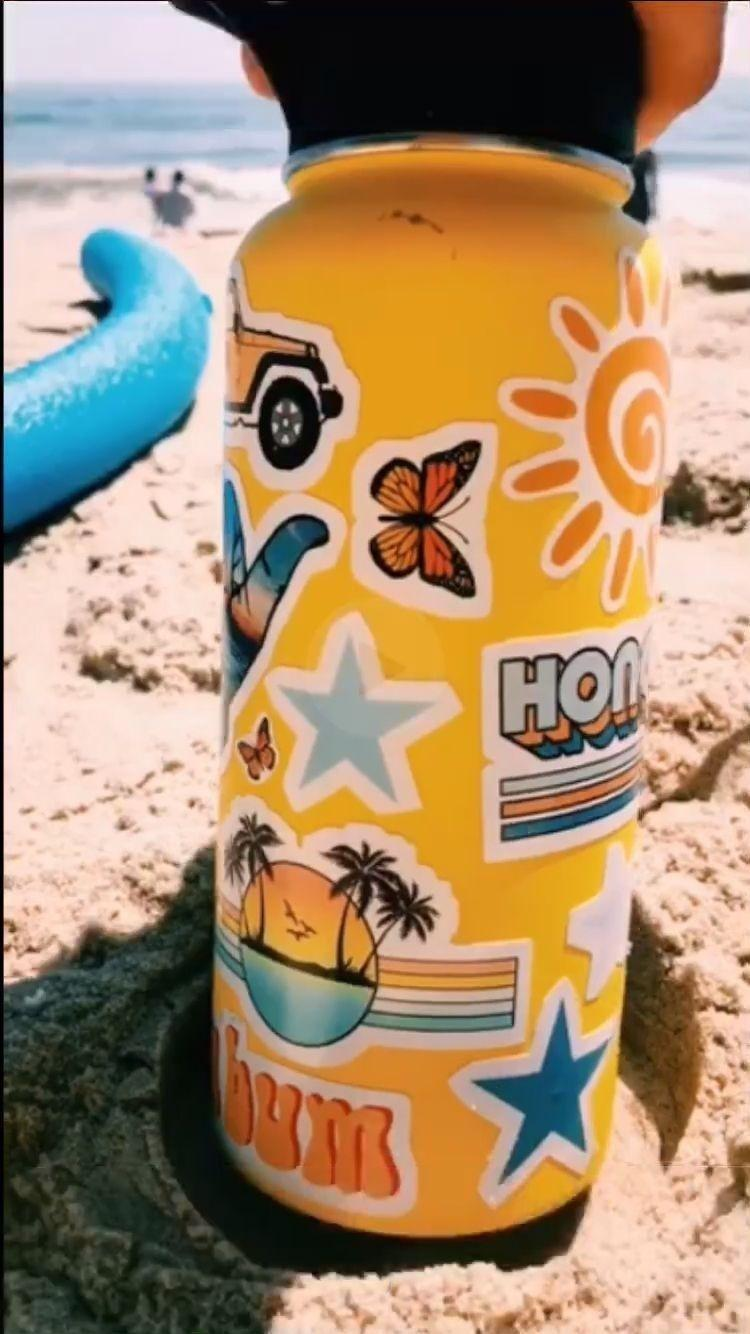gym bottle: (178, 1, 731, 1244)
